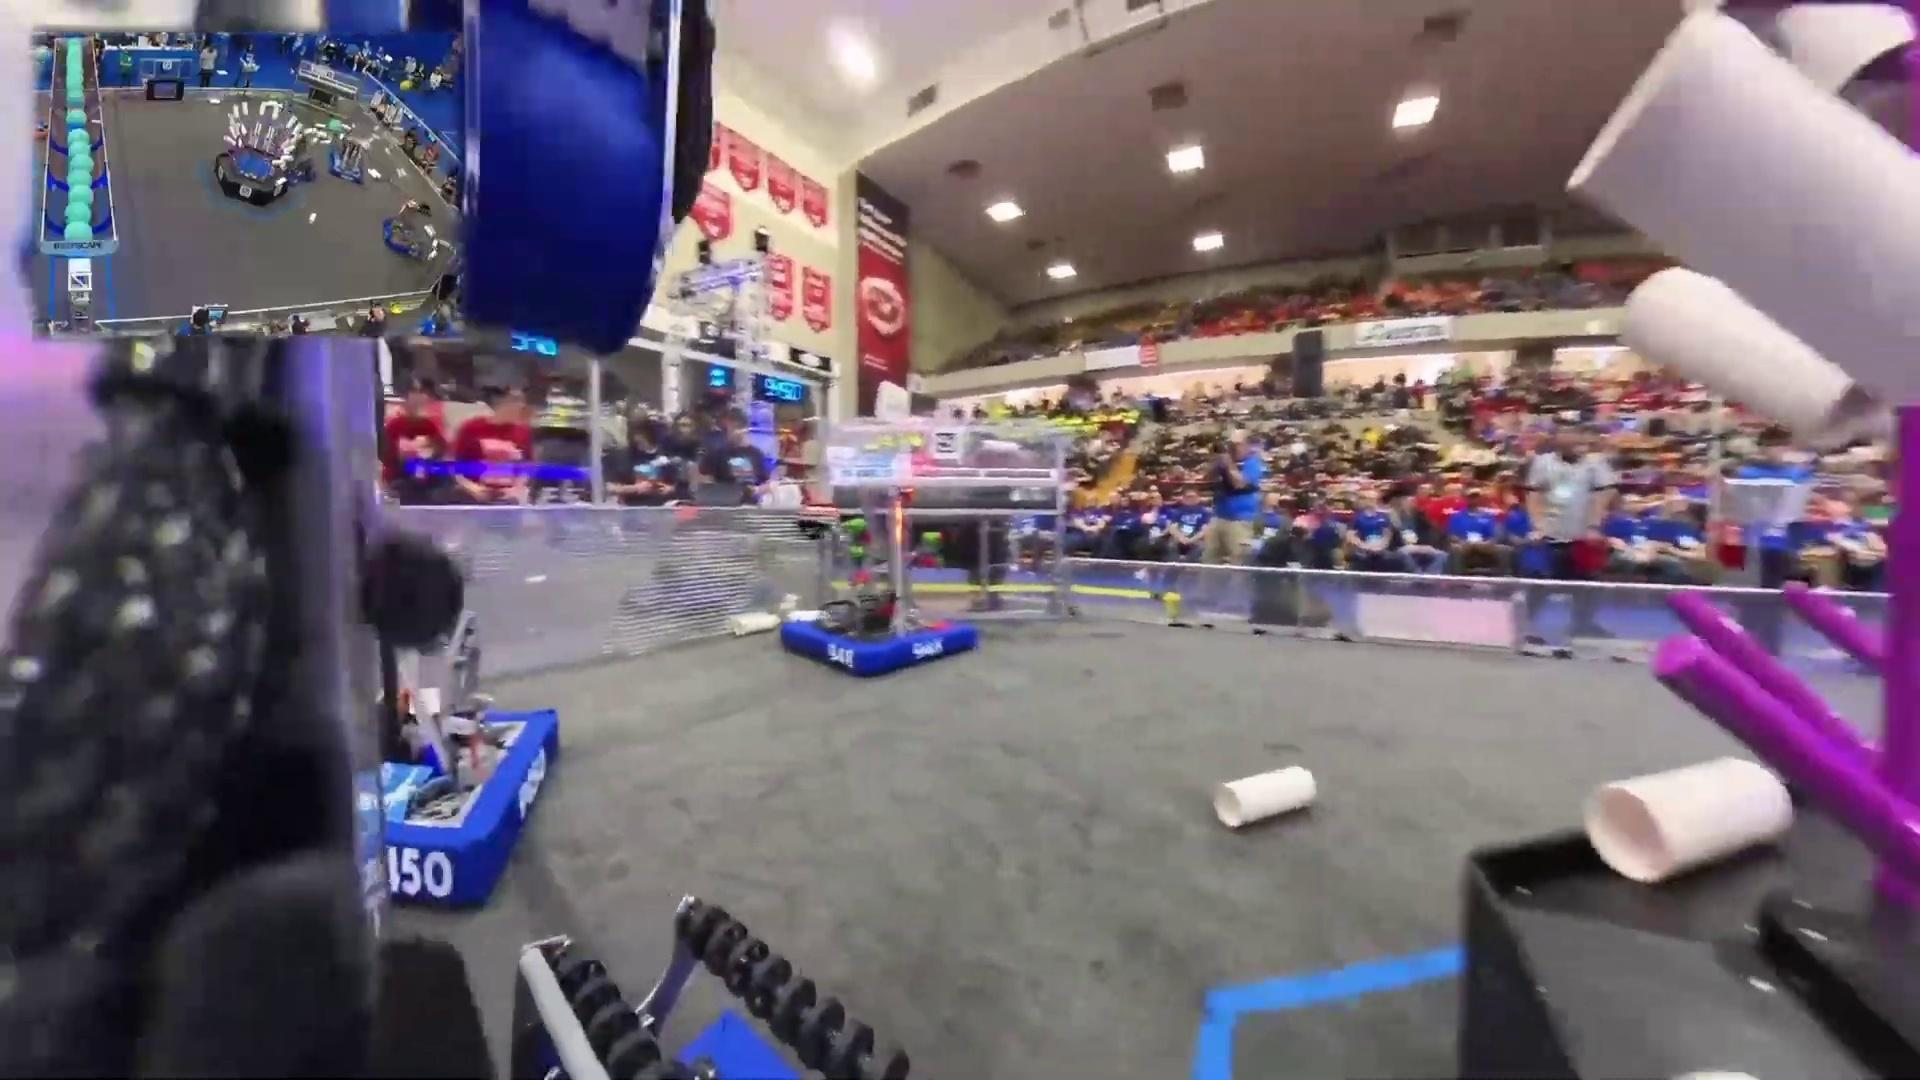robot: (380, 563, 558, 914), (777, 480, 977, 679), (381, 196, 431, 262), (328, 133, 372, 186)
